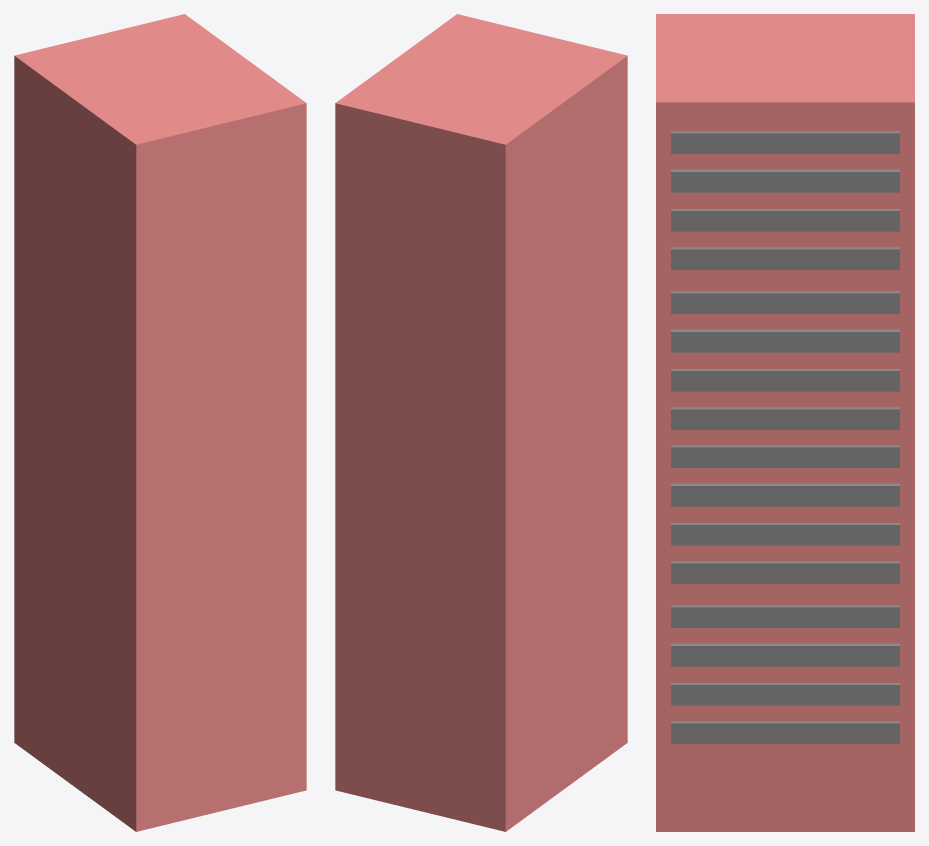
Rendered from Building01.FBX.
3 views of the same model, side by side, from view 1: azimuth 30°, elevation 25°; view 2: azimuth 150°, elevation 25°; view 3: azimuth 270°, elevation 25° (orthographic). The views are drawn at different scales.
Parts seen in each view (by area): view 1: Box001; view 2: Box001; view 3: Box001.
Boxes of the visible parts, x1,y1,x2,y2 form: Box001: [14, 14, 306, 831]; Box001: [335, 14, 627, 831]; Box001: [656, 14, 914, 831].
Bounding box in the file's own units: 32.62 × 123 × 39.45.
